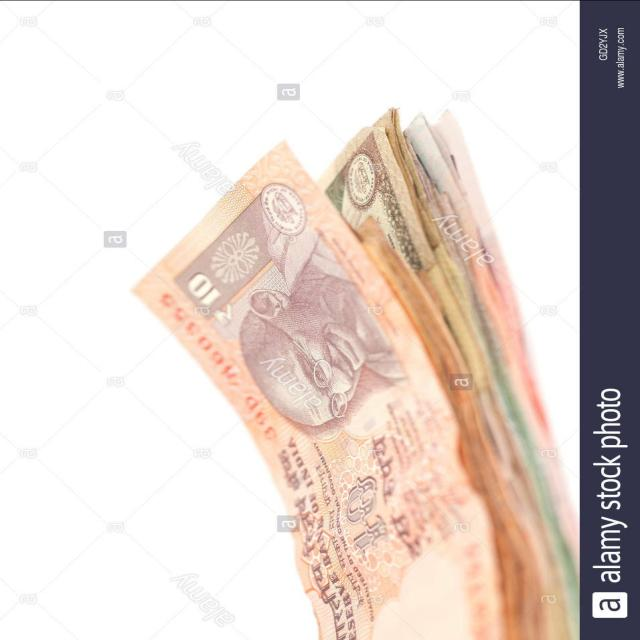10IndianRupees: (140, 136, 483, 637)
